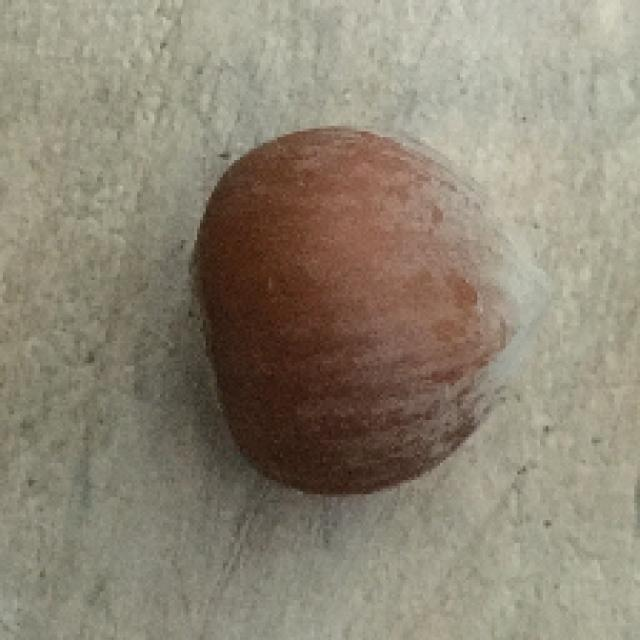QualityHazelnut: (186, 120, 560, 498)
